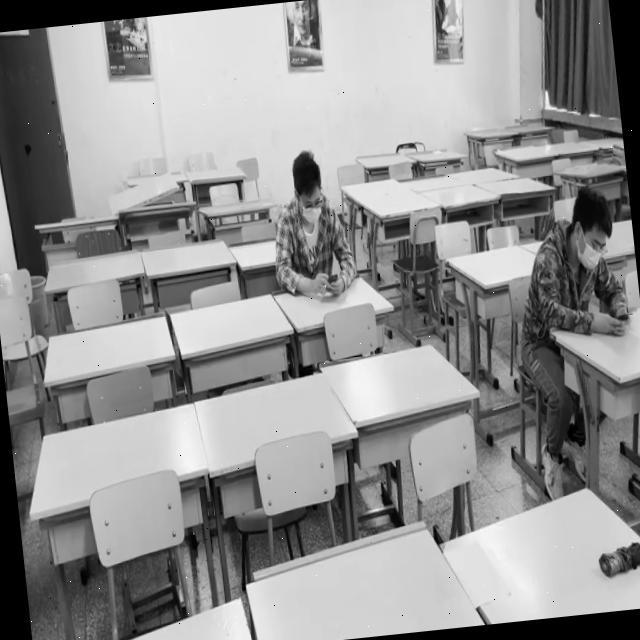phone: (265, 147, 357, 302), (542, 182, 631, 337)
